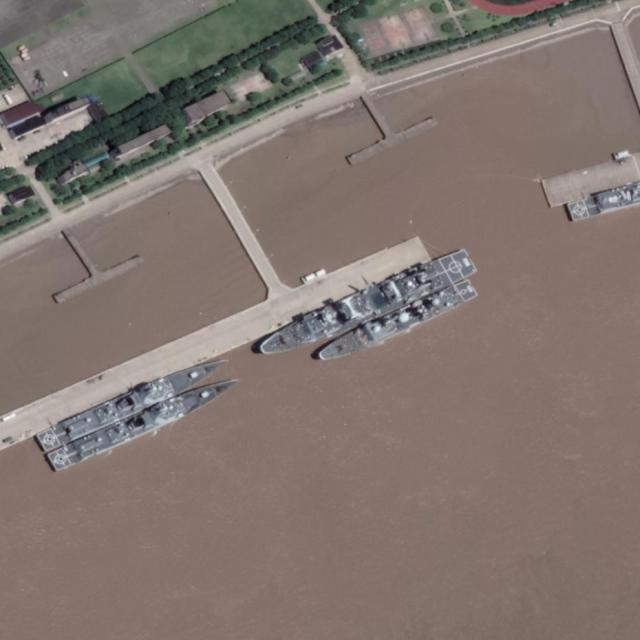Auxiliary Ships: (253, 244, 477, 373), (43, 368, 246, 476), (33, 348, 234, 454), (44, 369, 245, 475), (311, 278, 479, 372)
